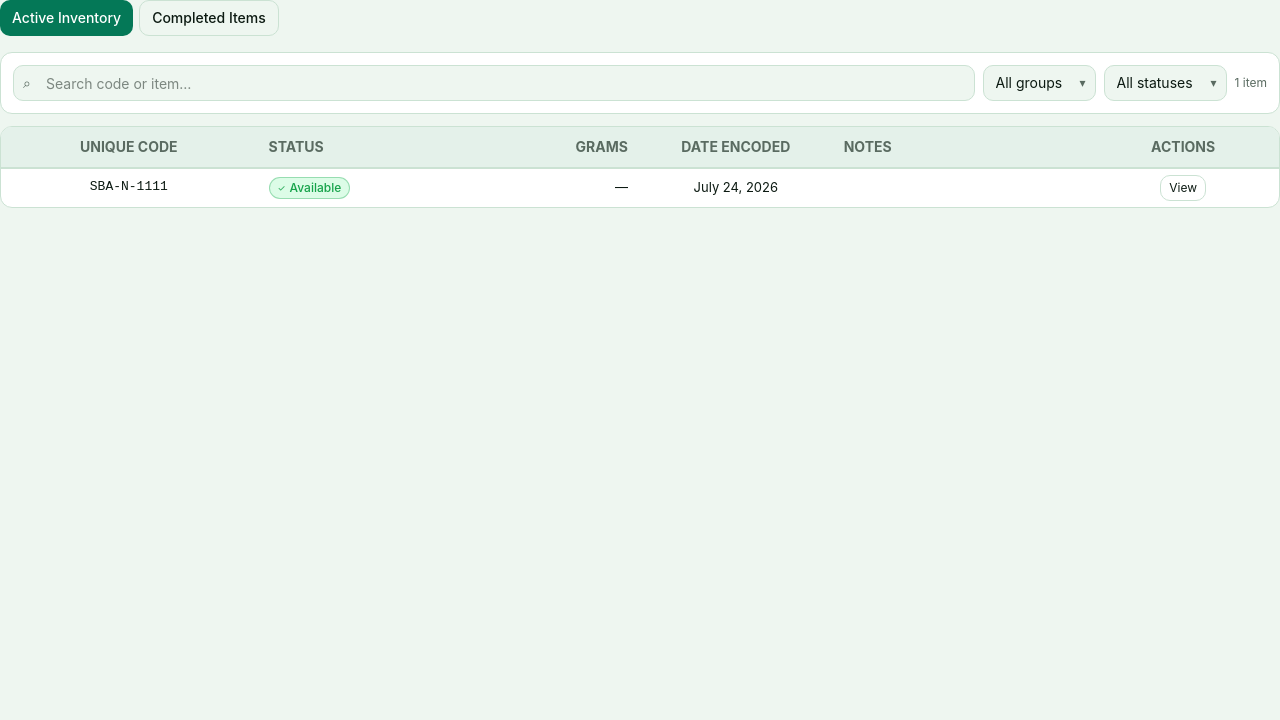
Test: Inventory — Active vs Completed › shows a Super-Admin Delete that removes the order info + returns the item
Click the tab "Completed Items" at [209, 18], box [139,0,279,36]
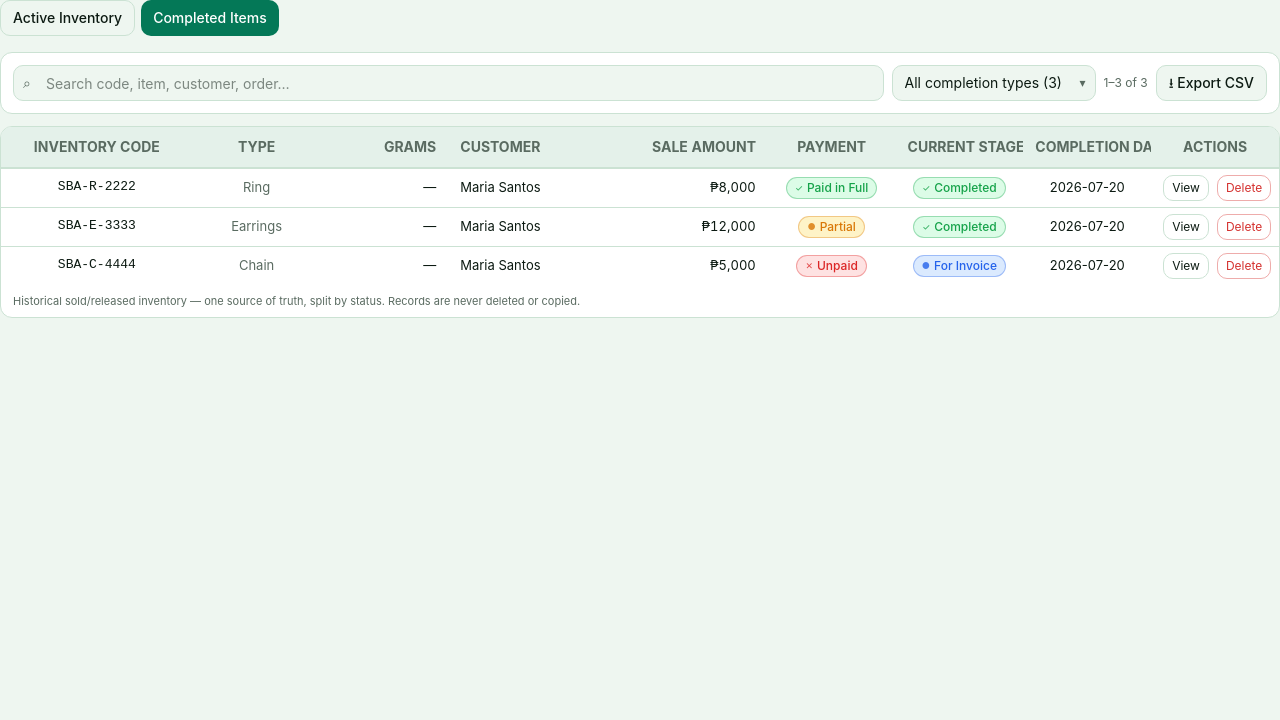
Expected: the number of buttons "Delete" is 3
Click the button "Delete" in the row of "SBA-R-2222" at [1244, 188], box [1217,174,1271,200]
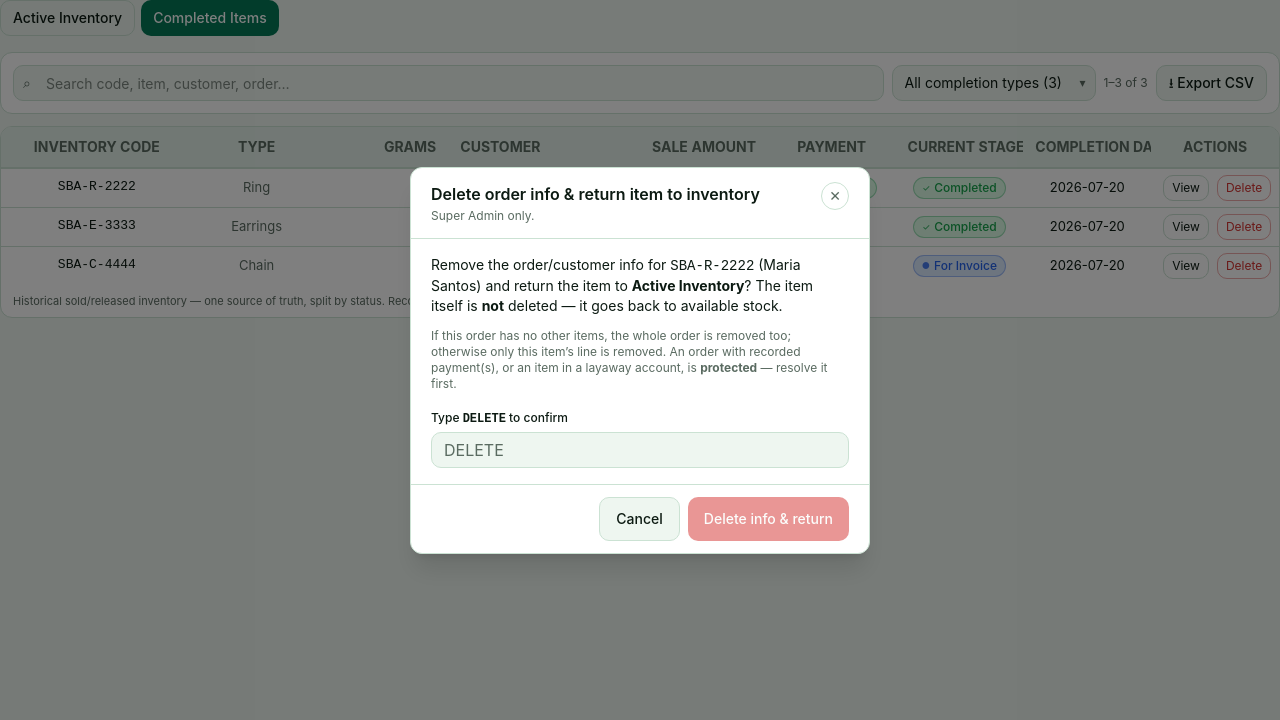
Expected: the heading "Delete order info & return item to inventory" is shown, [431,182,760,206]
Expected: the text "goes back to available stock" is shown, [508,296,783,314]
Expected: the field with placeholder "DELETE" is shown, [431,432,849,468]
